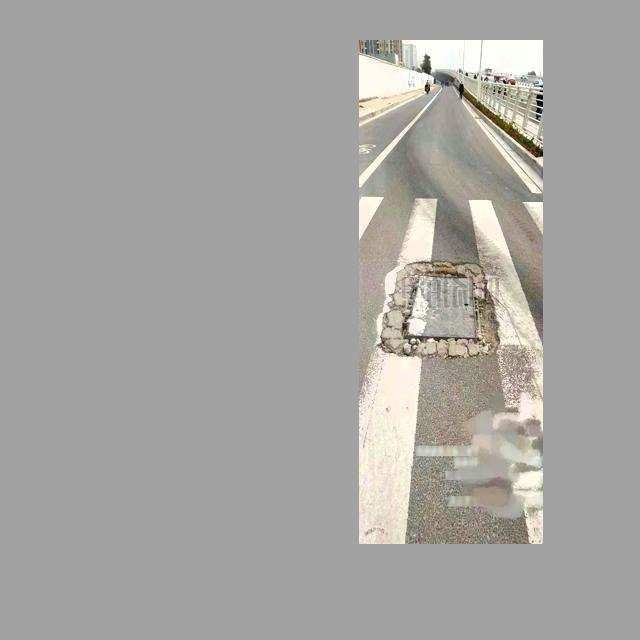circle: (285, 394, 472, 544)
